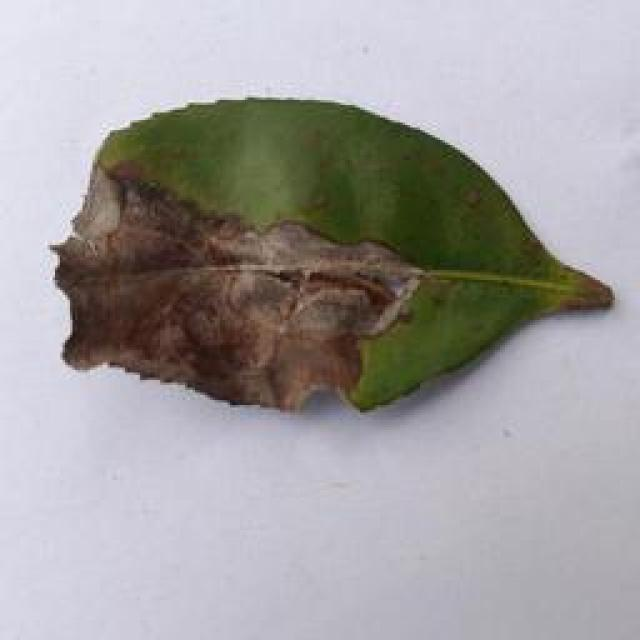Brown Blight: (56, 89, 619, 428)
